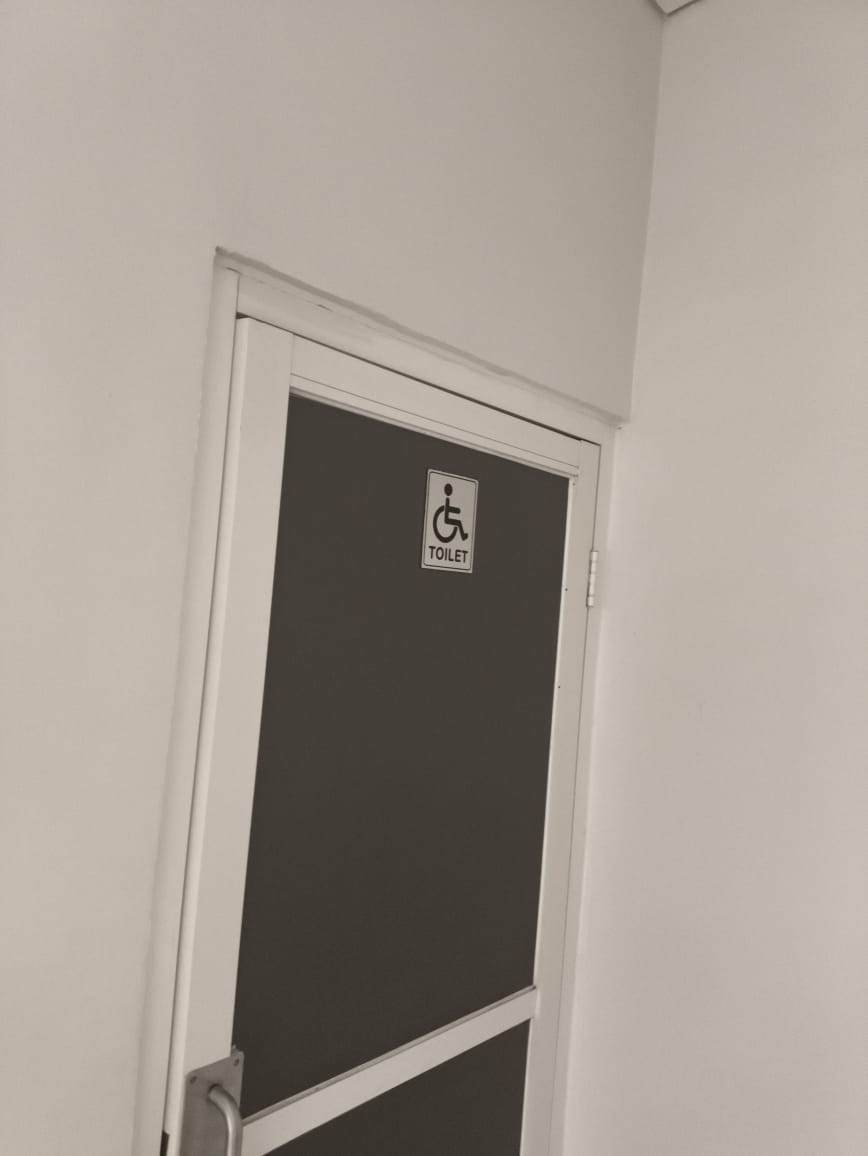toilet difabel: (411, 459, 489, 586)
